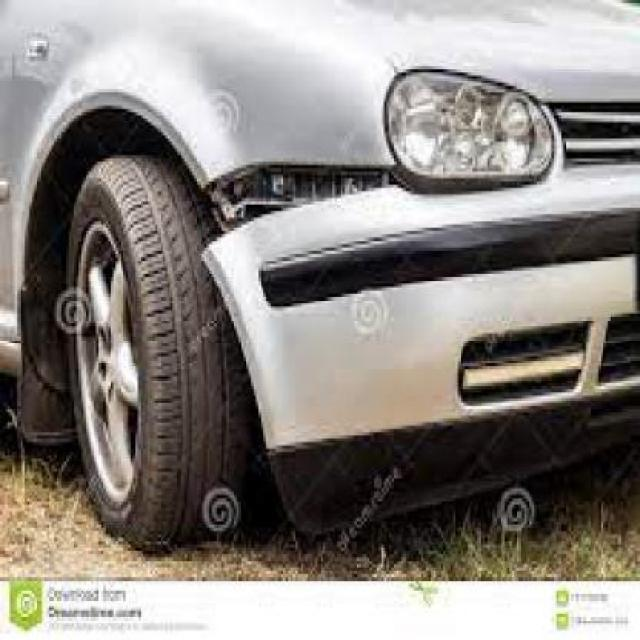damaged-front-bumper: (202, 175, 638, 514)
